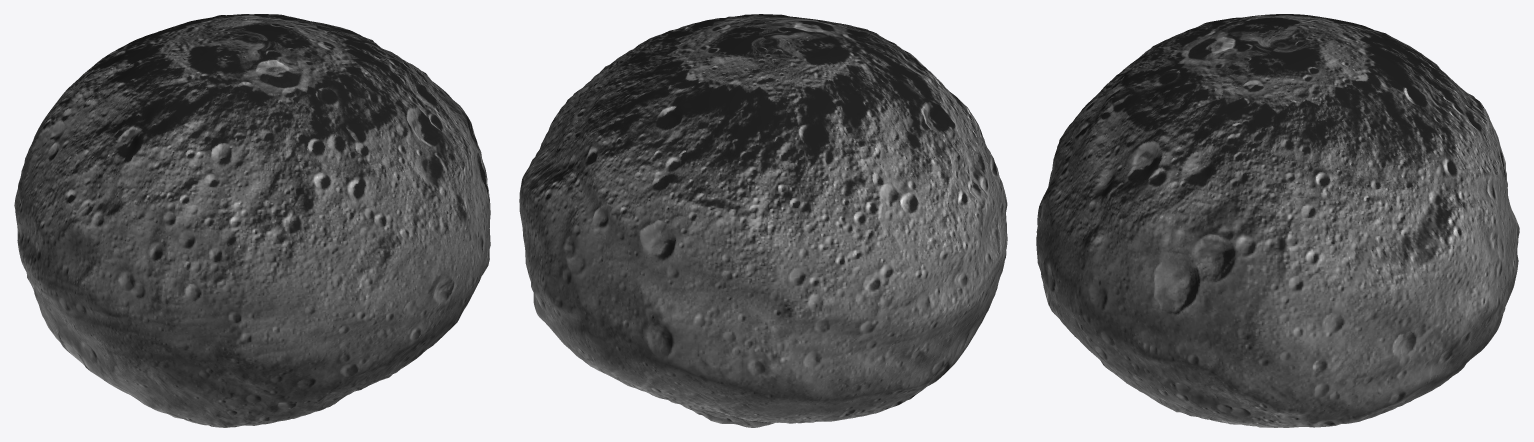
Rendered from vesta.glb.
3 renders of one model, left to right at view 1: azimuth 30°, elevation 25°; view 2: azimuth 150°, elevation 25°; view 3: azimuth 270°, elevation 25°, orthographic. The views are drawn at different scales.
Visible parts, largest first — view 1: Vesta; view 2: Vesta; view 3: Vesta.
Part boxes in pixels (bbox=[...]): Vesta: bbox=[14, 14, 490, 427]; Vesta: bbox=[519, 14, 1007, 427]; Vesta: bbox=[1036, 14, 1519, 427].
Bounding box in the file's own units: 5733 × 4629 × 5562.
Materials: 1 (1 with a texture image).
